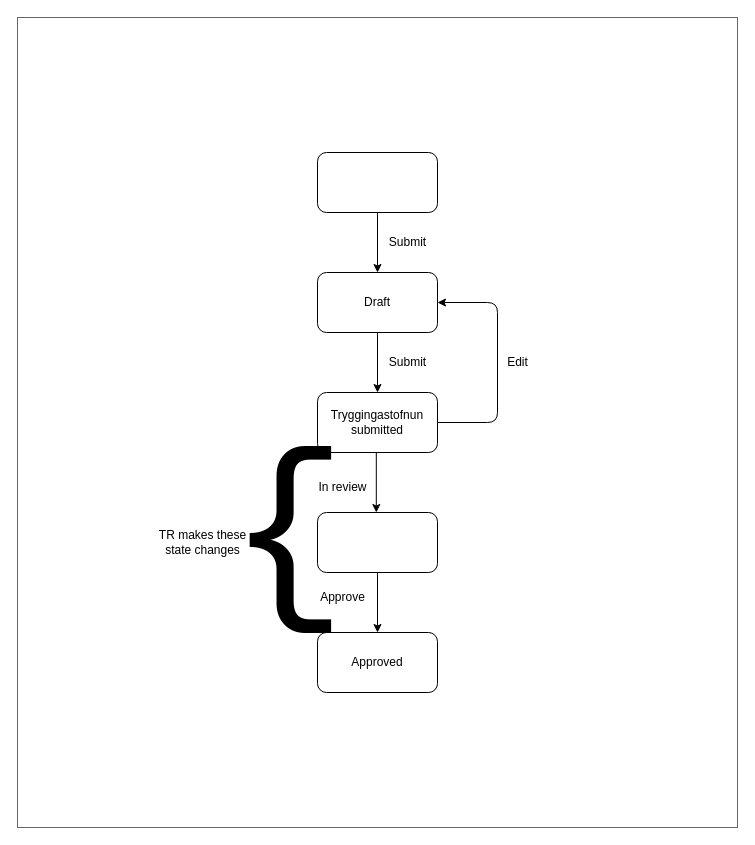
This 755x845 diagram has some shape labels left out. Each missing label, with the centre of its shape:
"Pre" belongs at pixel 377 182.
"Tryggingastofnun in review" belongs at pixel 377 542.
